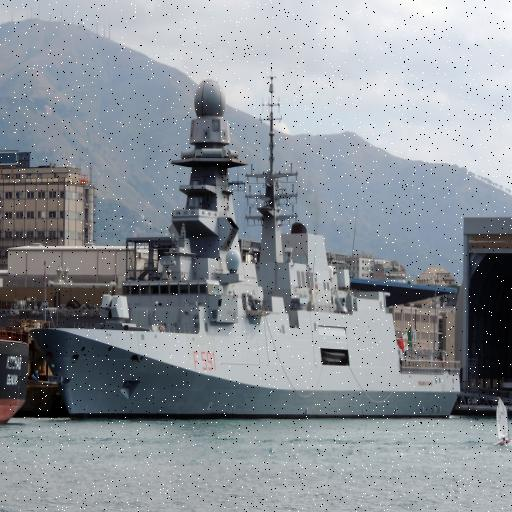Fragata: (32, 58, 469, 428)
